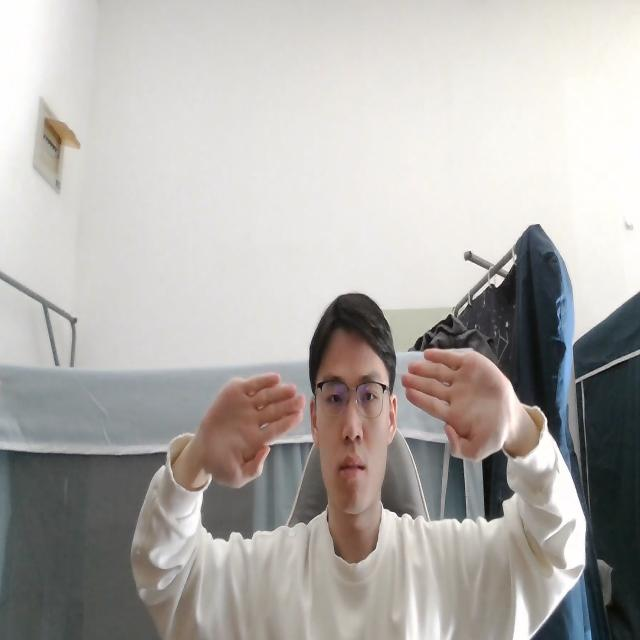five: (192, 369, 306, 492), (400, 345, 514, 466)
